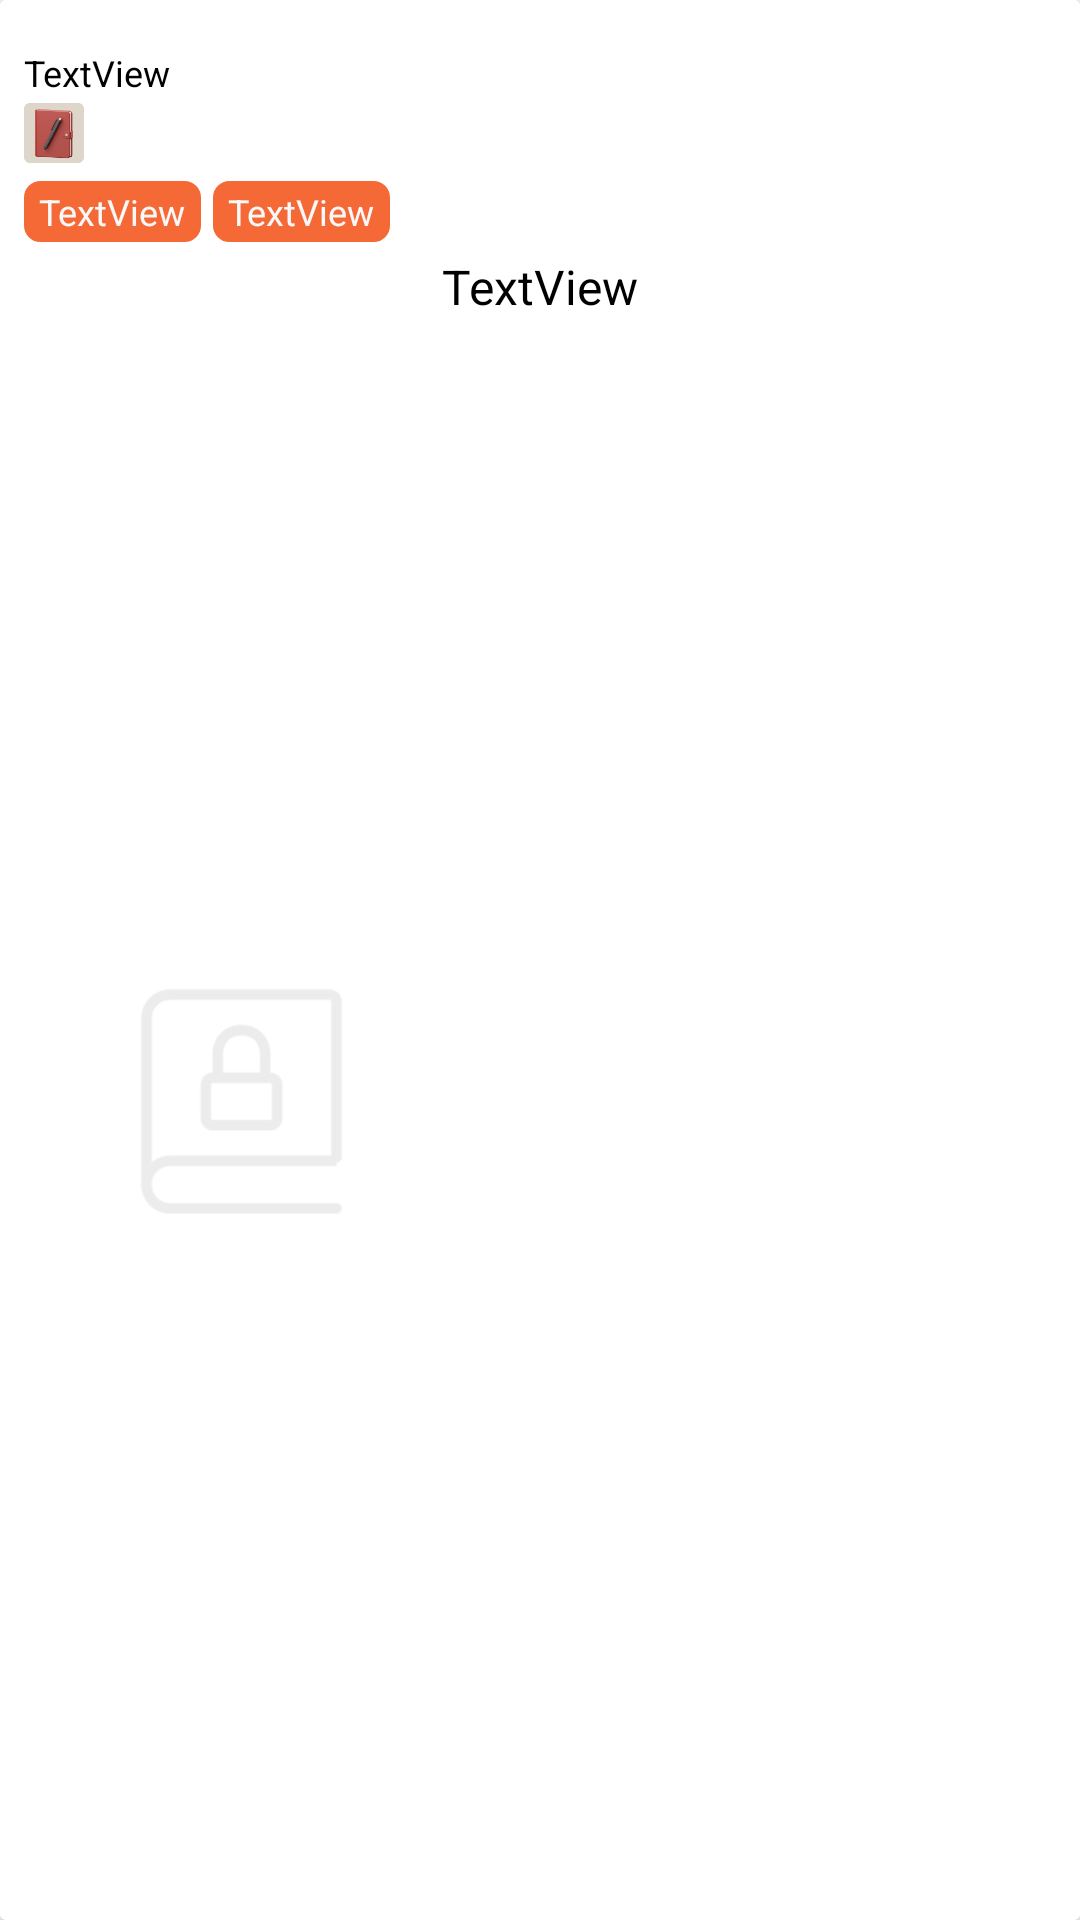

Screen size 1080px×1920px. Icon name, then its center in pixels as (x,y):
notebook: (54,133)
